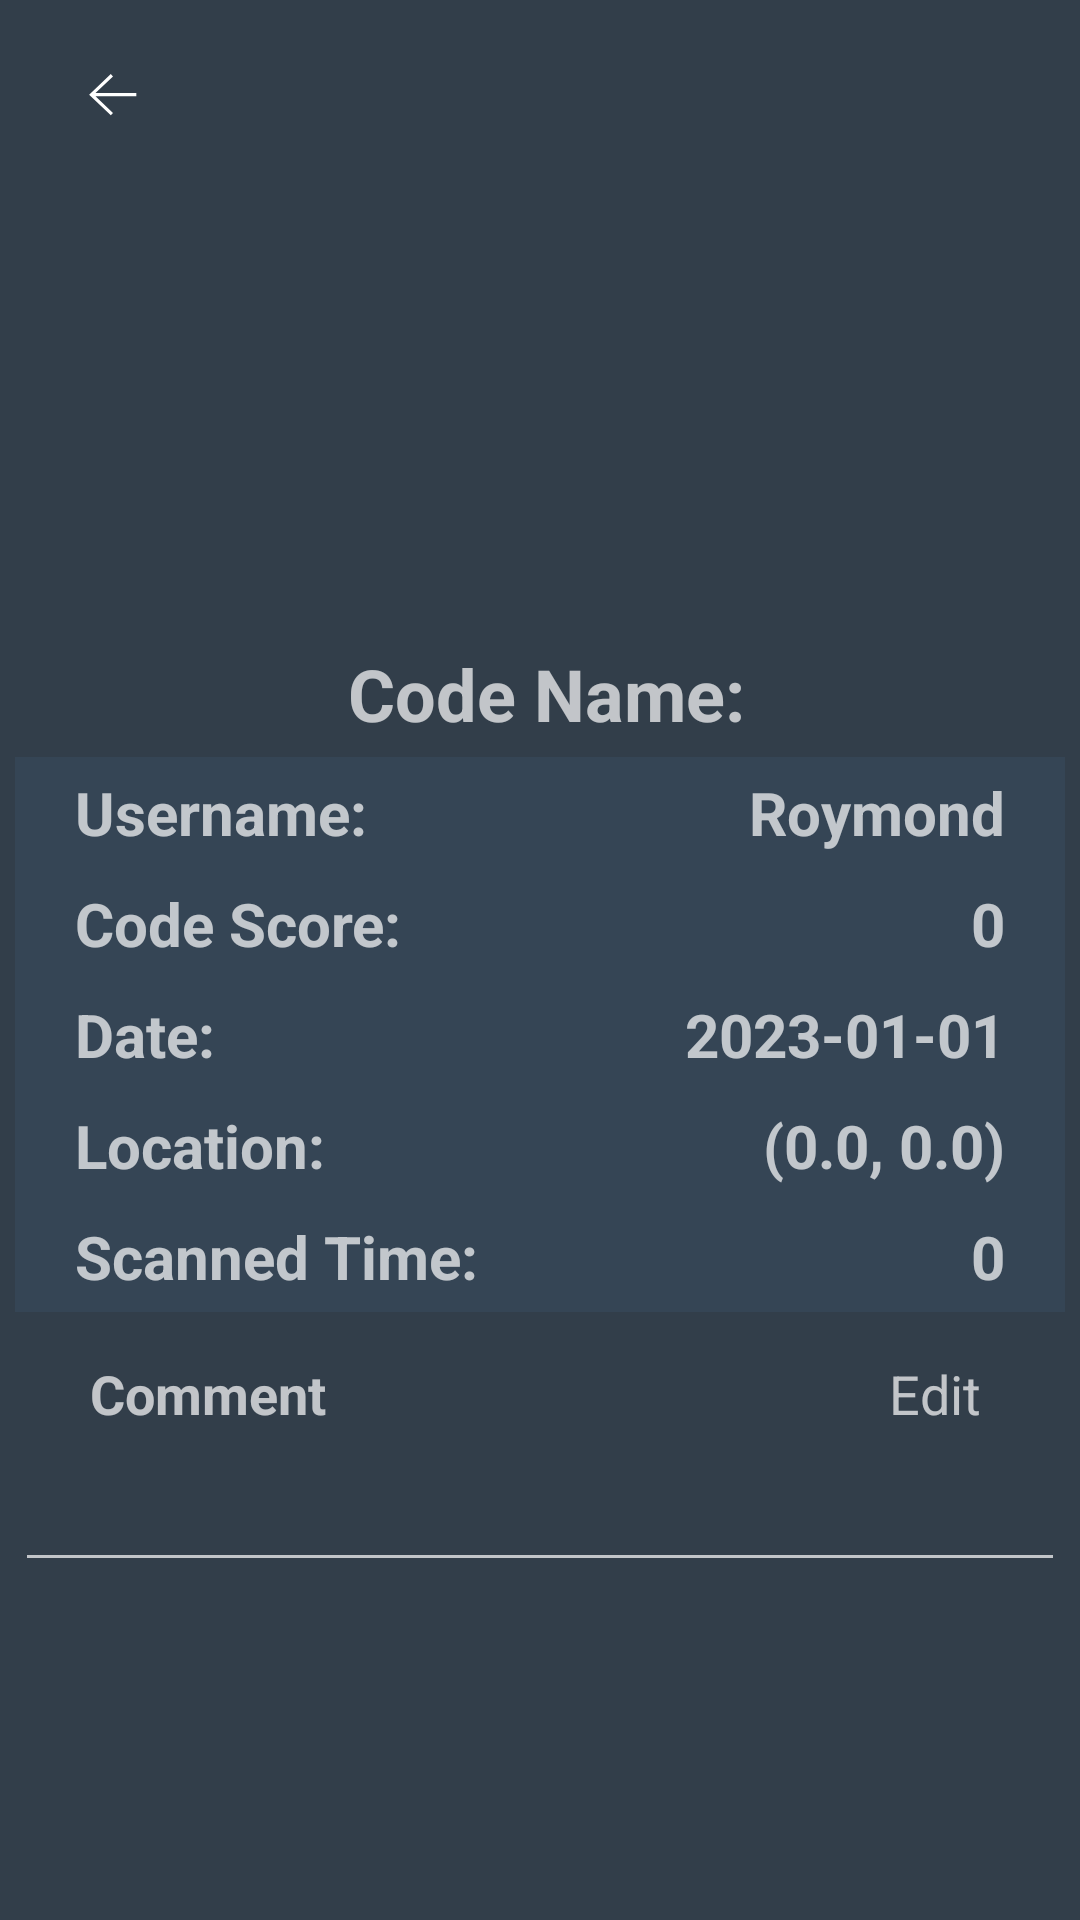

Icon click points for this 1080×1920 phone screenshot, format [x,y]:
back arrow: [113,94]
